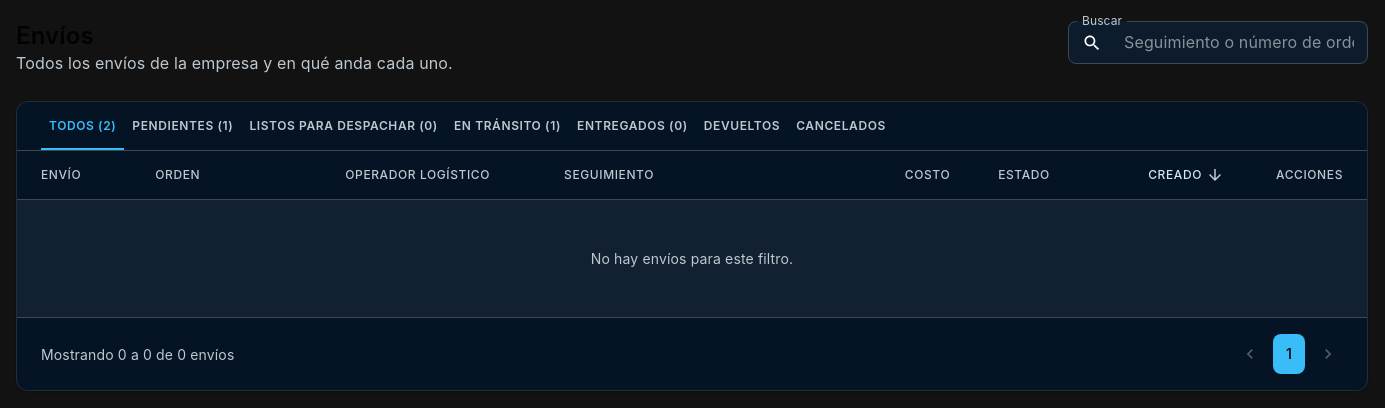
it: ShipmentsPage › search › says nothing matched instead of showing the empty tab message
This screenshot has width=1385, height=408.
Type "nada" into the field labelled "Buscar".
click(1239, 42); type("nada")  # box [1110,21,1368,64]
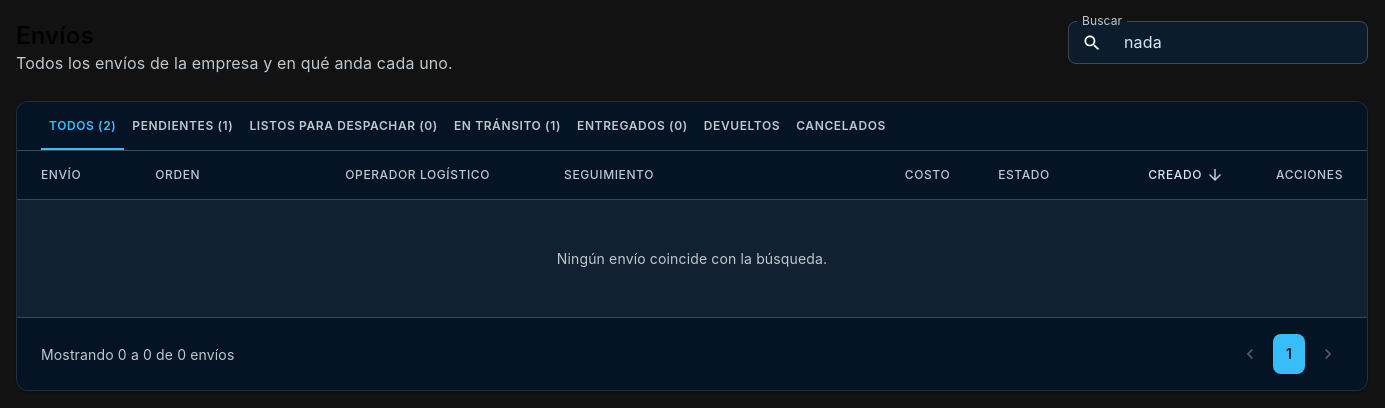
Expected: the text "Ningún envío coincide con la búsqueda." is shown, [557,250,827,267]
